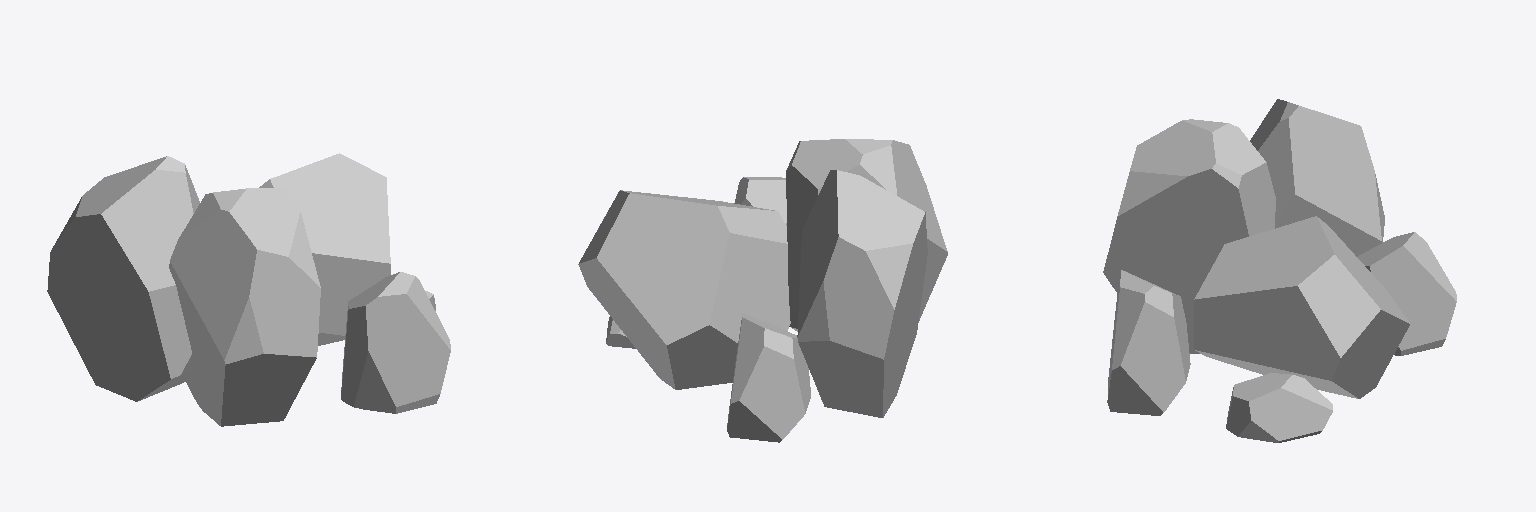
File: rocks.obj
3 views of the same model, side by side, from view 1: azimuth 30°, elevation 25°; view 2: azimuth 150°, elevation 25°; view 3: azimuth 270°, elevation 25° (orthographic).
Parts seen in each view (by area): view 1: Rocks pSphere5, Rocks pSphere3, Rocks pSphere1, Rocks pSphere6; view 2: Rocks pSphere1, Rocks pSphere3, Rocks pSphere5, pSphere2 Rocks, Rocks pSphere6; view 3: Rocks pSphere1, Rocks pSphere5, Rocks pSphere3, Rocks pSphere6, pSphere2 Rocks, Rocks pSphere4.
Boxes of the visible parts, <box> form: Rocks pSphere5: <box>169,188,320,426</box>; Rocks pSphere3: <box>47,156,199,401</box>; Rocks pSphere1: <box>259,153,390,345</box>; Rocks pSphere6: <box>341,272,450,413</box>; Rocks pSphere1: <box>578,190,790,389</box>; Rocks pSphere3: <box>797,170,927,417</box>; Rocks pSphere5: <box>786,139,947,331</box>; pSphere2 Rocks: <box>727,313,810,442</box>; Rocks pSphere6: <box>734,177,786,225</box>; Rocks pSphere1: <box>1194,216,1409,398</box>; Rocks pSphere5: <box>1103,119,1275,353</box>; Rocks pSphere3: <box>1250,99,1384,256</box>; Rocks pSphere6: <box>1107,269,1190,415</box>; pSphere2 Rocks: <box>1357,232,1456,355</box>; Rocks pSphere4: <box>1226,373,1332,442</box>.
Size of the model in its own units: 3.2 by 2.07 by 2.95.